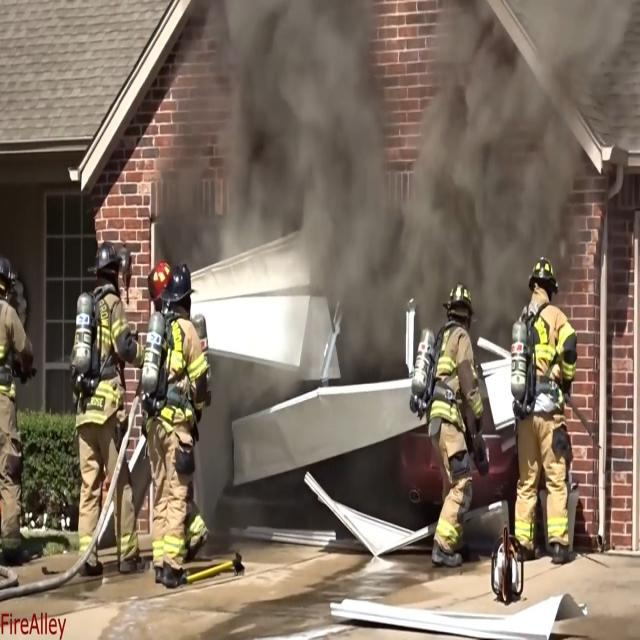Smoke: (241, 0, 537, 284)
